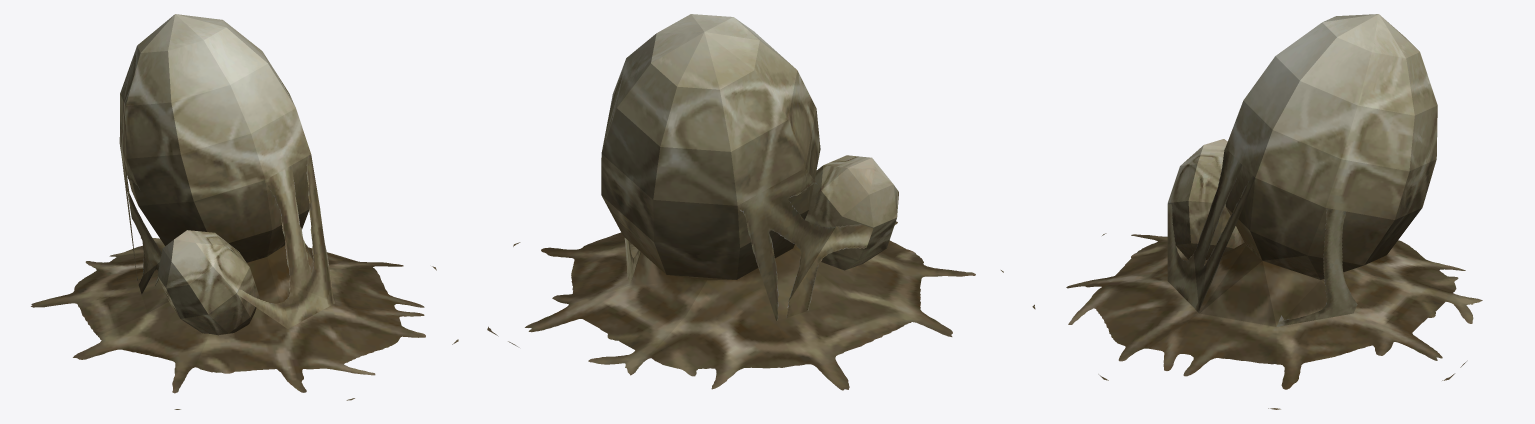
Rendered from spider_egg_02.fbx.
3 views of the same model, side by side, from view 1: azimuth 30°, elevation 25°; view 2: azimuth 150°, elevation 25°; view 3: azimuth 270°, elevation 25° (orthographic). The views are drawn at different scales.
Parts seen in each view (by area): view 1: obj0.334; view 2: obj0.334; view 3: obj0.334.
Part boxes in pixels (x1,y1,x2,y2): obj0.334: (31, 14, 458, 409); obj0.334: (487, 14, 1003, 390); obj0.334: (1032, 14, 1482, 409).
Size of the model in its own units: 3.19 by 2.06 by 3.19.
